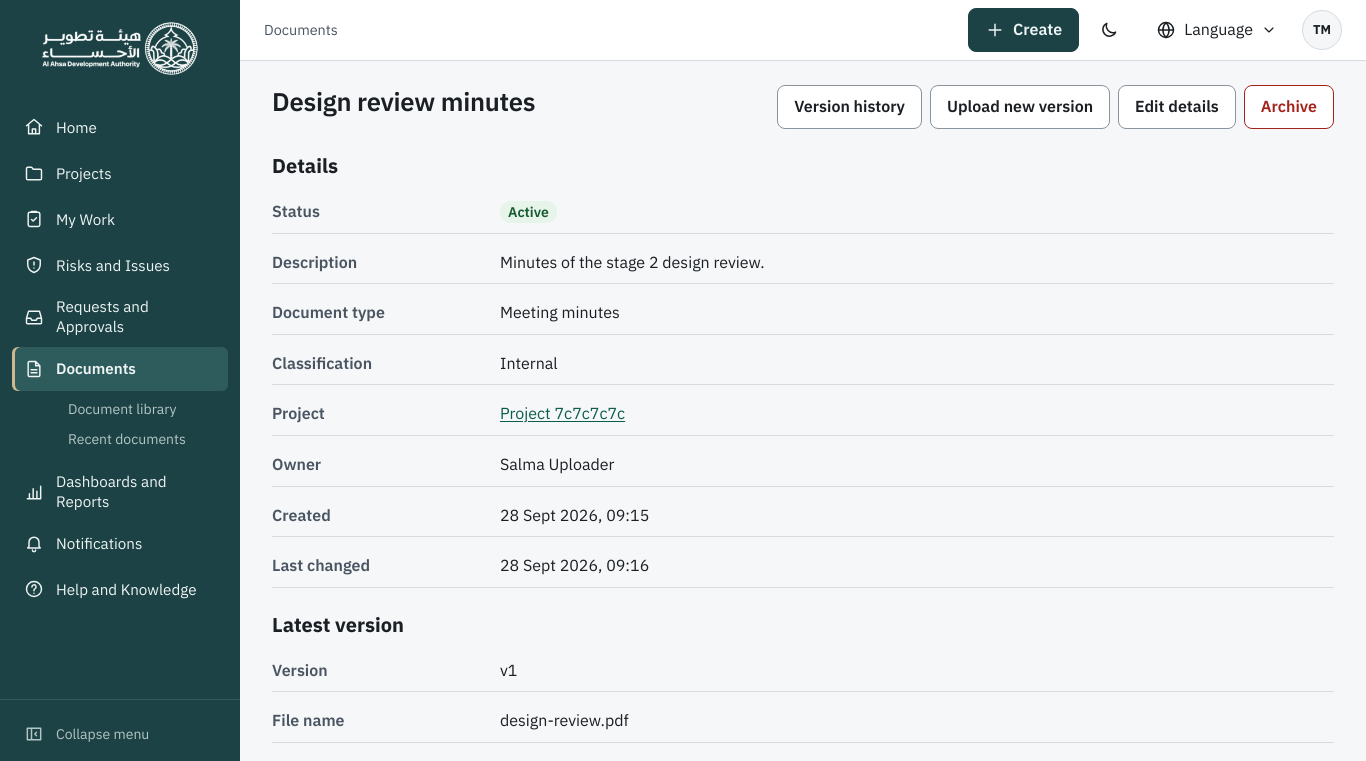
Test: MOD-051 Edit Metadata › someone else’s change in between is explained
Click the button "Edit details" at (1177, 107), box [1118,85,1236,129]
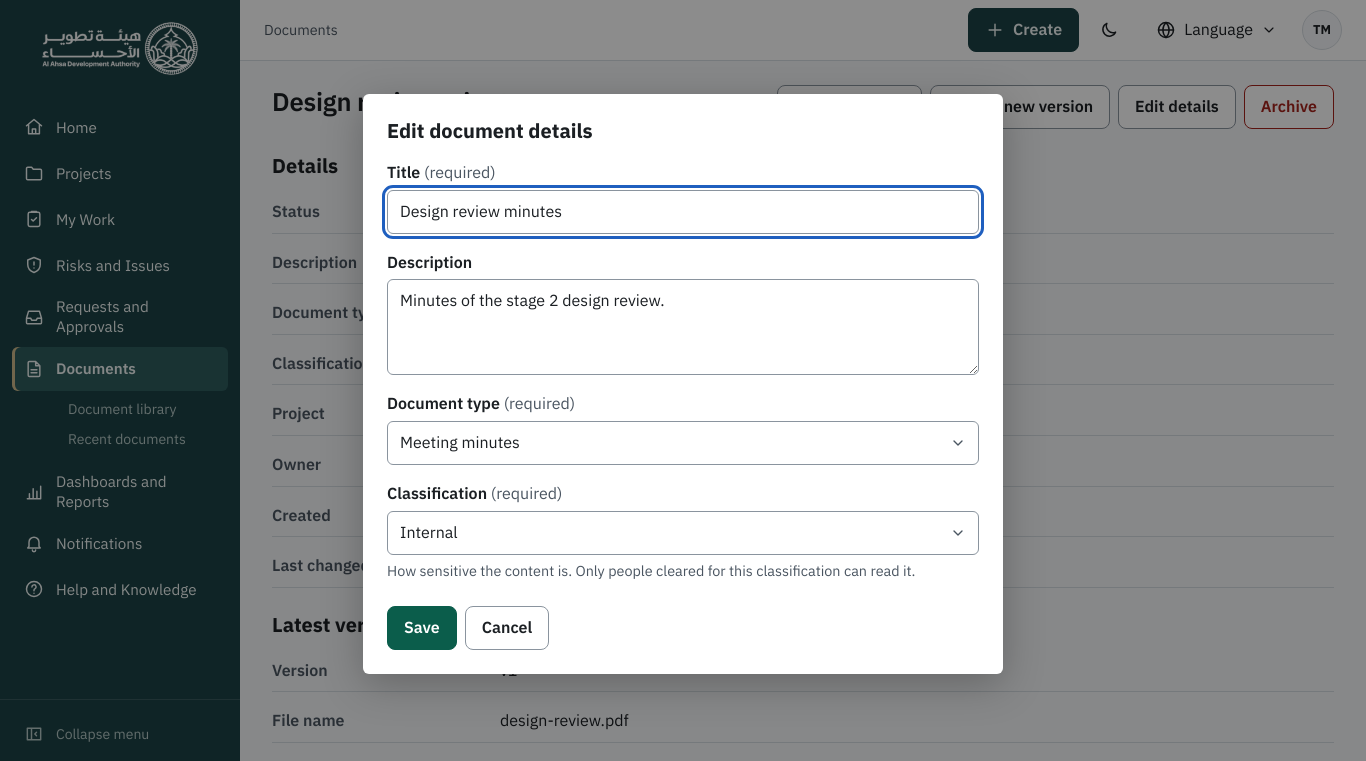
Click the button "Save" at (422, 628), box [387,606,457,650]
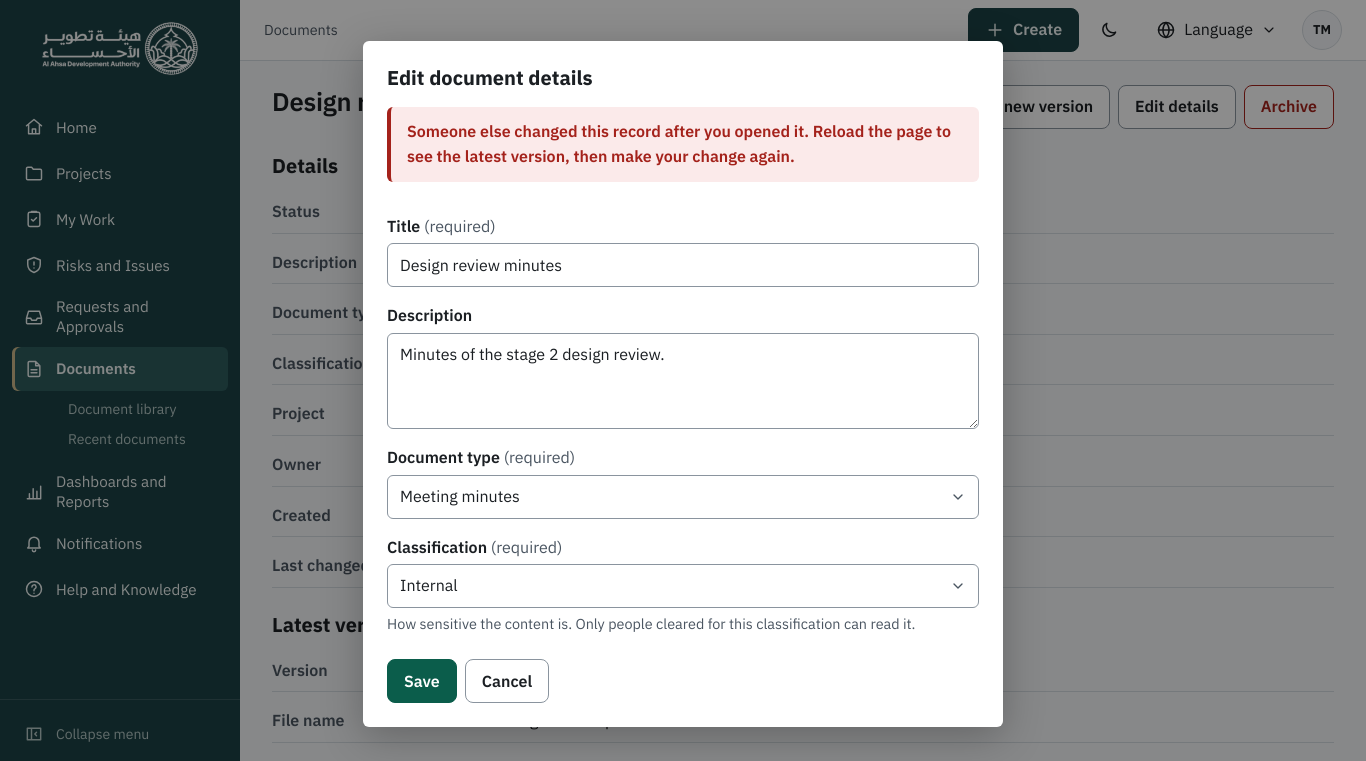
expect the message shows "Someone else changed this record after you opened it. Reload the page to see the latest version, then make your change again.": met, box [407,121,951,166]
